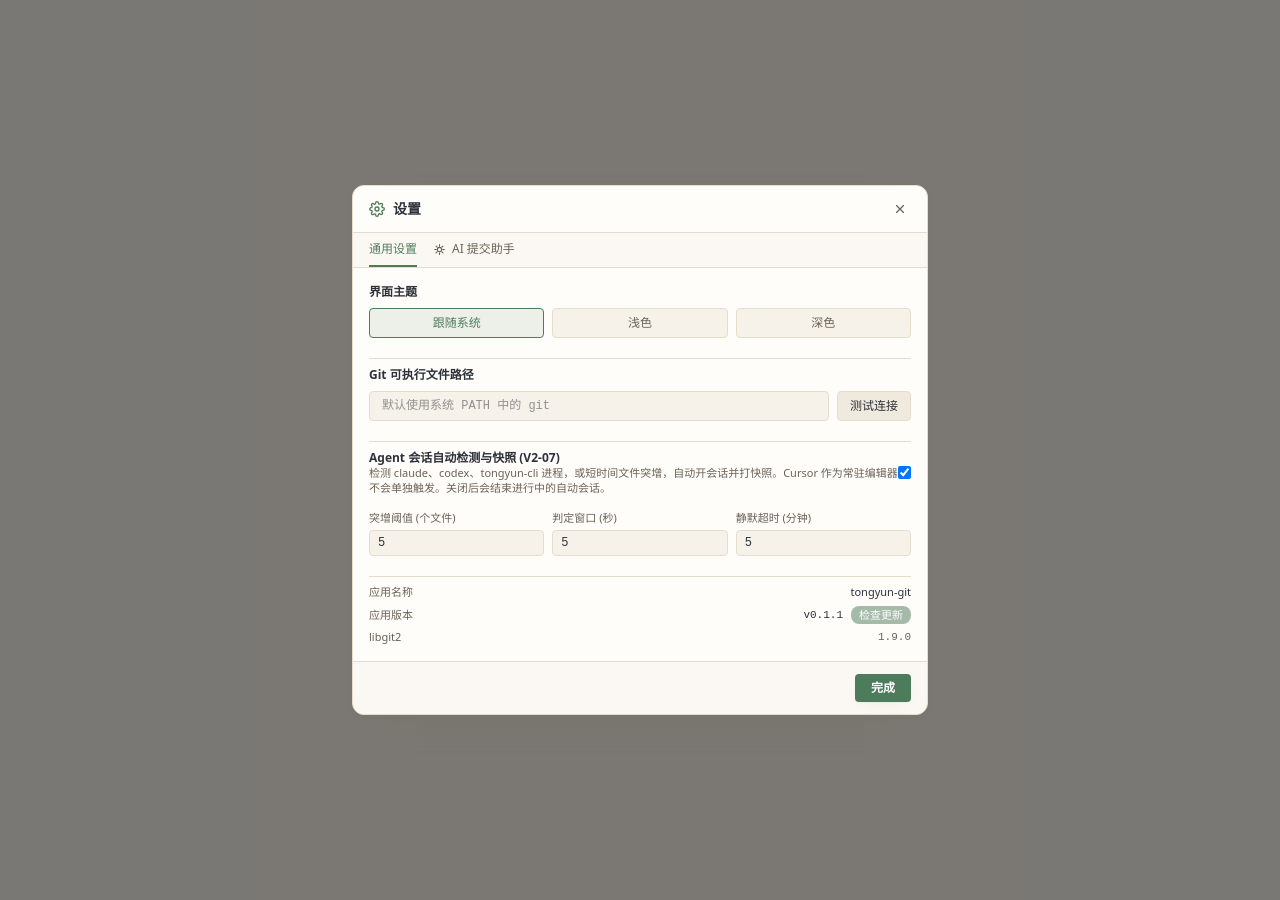
it: SettingsModal component › switches between General and AI tabs
This screenshot has width=1280, height=900.
Expected: the text "Git 可执行文件路径" is shown, [369,366,474,383]
# Click AI tab
Click the button "AI 提交助手" at (474, 254), box [433,241,515,267]
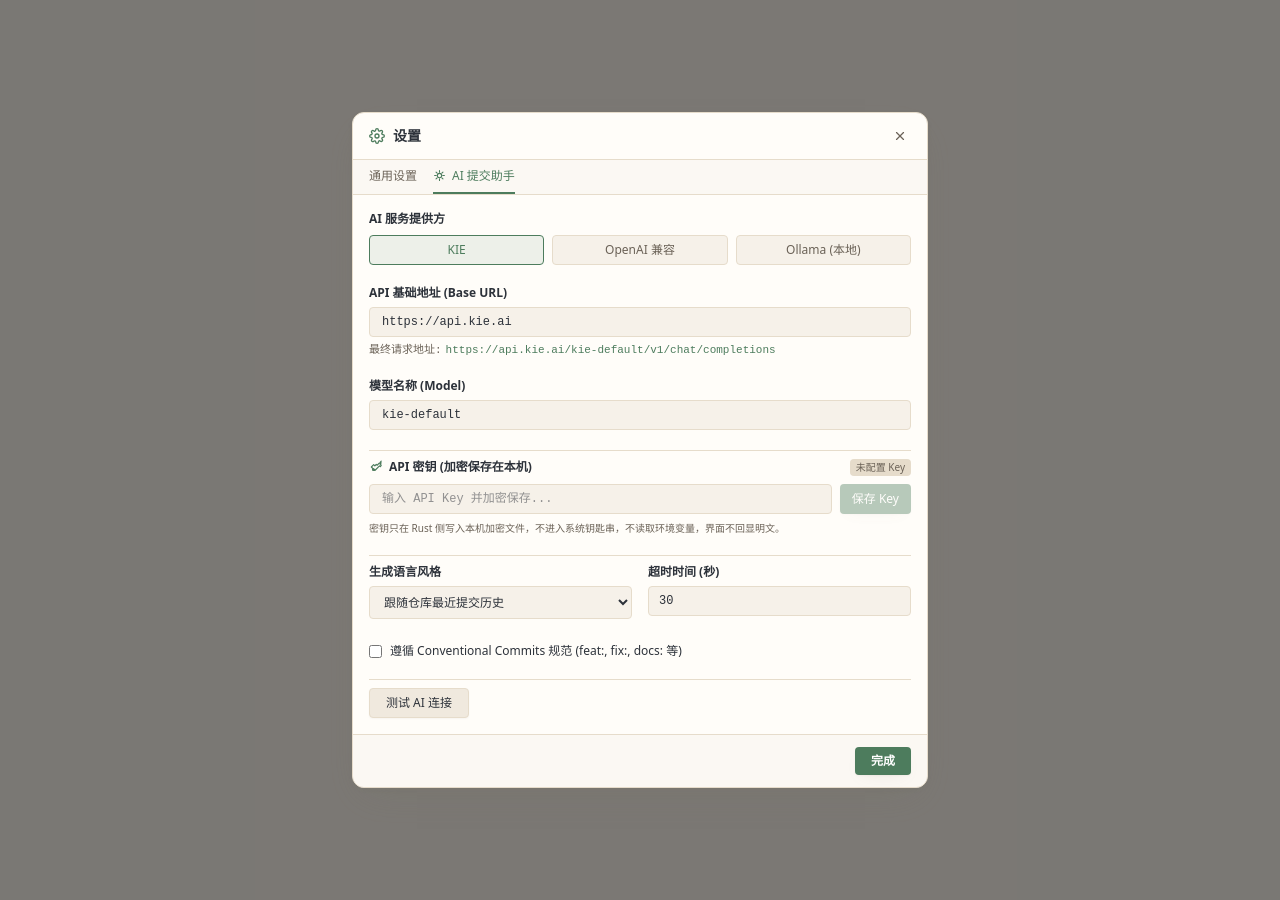
Result: the text "AI 服务提供方" is shown at [369,210,445,227]
Result: the text "API 密钥 (加密保存在本机)" is shown at [389,459,532,475]
